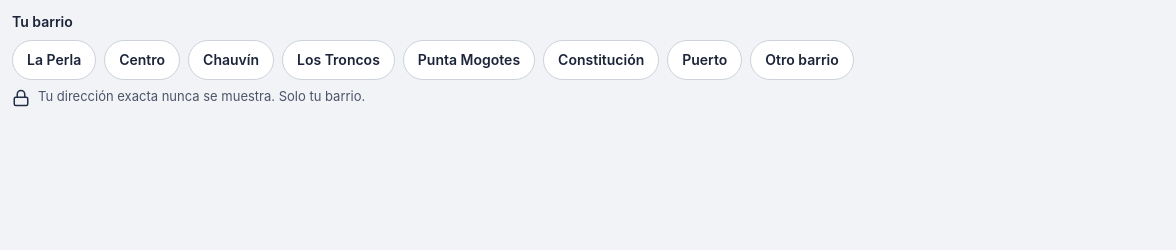
Test: SelectorBarrio › 'Otro barrio' abre un buscador que filtra sin acentos
Click the radio button labelled "Otro barrio" at point(802, 60), box [750,38,854,82]
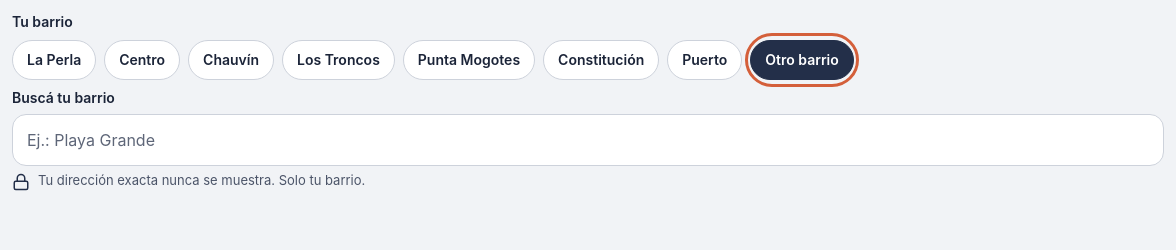
Type "chauvin" into the dropdown labelled "Buscá tu barrio" at point(588, 140), box [12,114,1164,166]
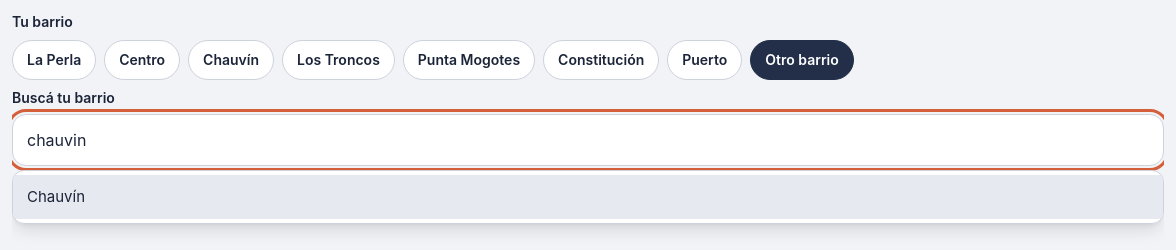
expect the options read "Chauvín", in this order: met, box [13,175,1163,219]
Press Enter
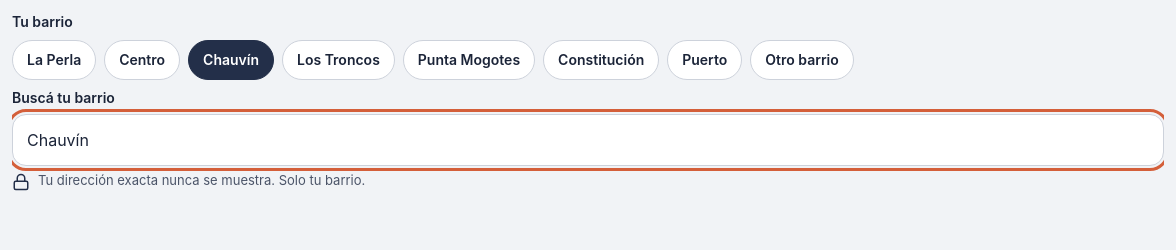
expect the dropdown labelled "Buscá tu barrio" holds "Chauvín": met, box [12,114,1164,166]
